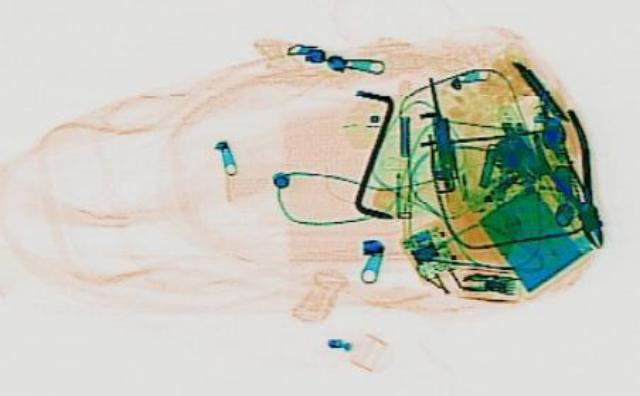Pliers: (518, 105, 630, 249)
